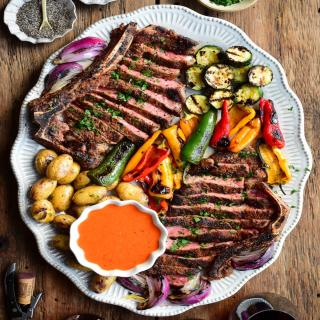meat: (105, 23, 183, 142), (183, 155, 255, 250), (27, 92, 105, 156), (147, 252, 227, 274), (258, 181, 287, 240), (76, 61, 104, 90), (164, 214, 184, 251), (80, 154, 99, 169)
steak: (15, 12, 310, 316)
veg: (190, 41, 286, 150), (31, 152, 79, 228), (80, 170, 172, 206), (127, 278, 210, 309), (109, 144, 177, 167), (54, 40, 105, 61), (263, 148, 289, 182), (44, 64, 74, 88), (230, 251, 274, 267), (152, 129, 193, 141), (94, 274, 114, 296), (48, 234, 70, 252), (67, 257, 86, 272), (179, 120, 190, 127)
